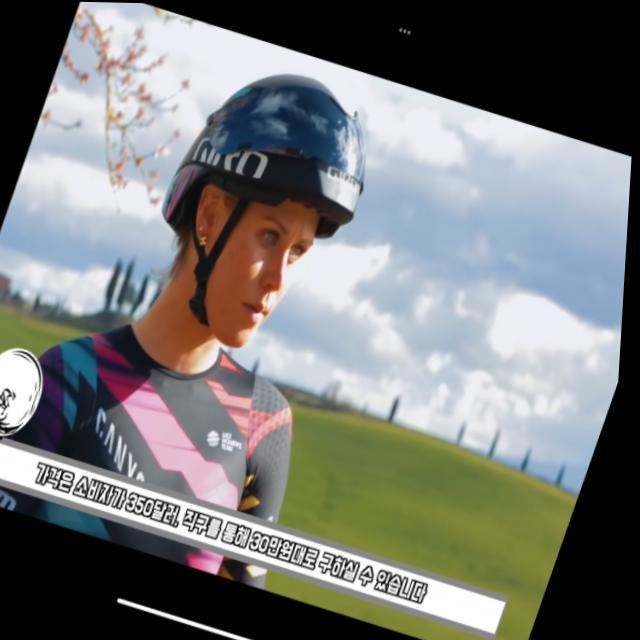Helmet: (146, 56, 385, 370)
